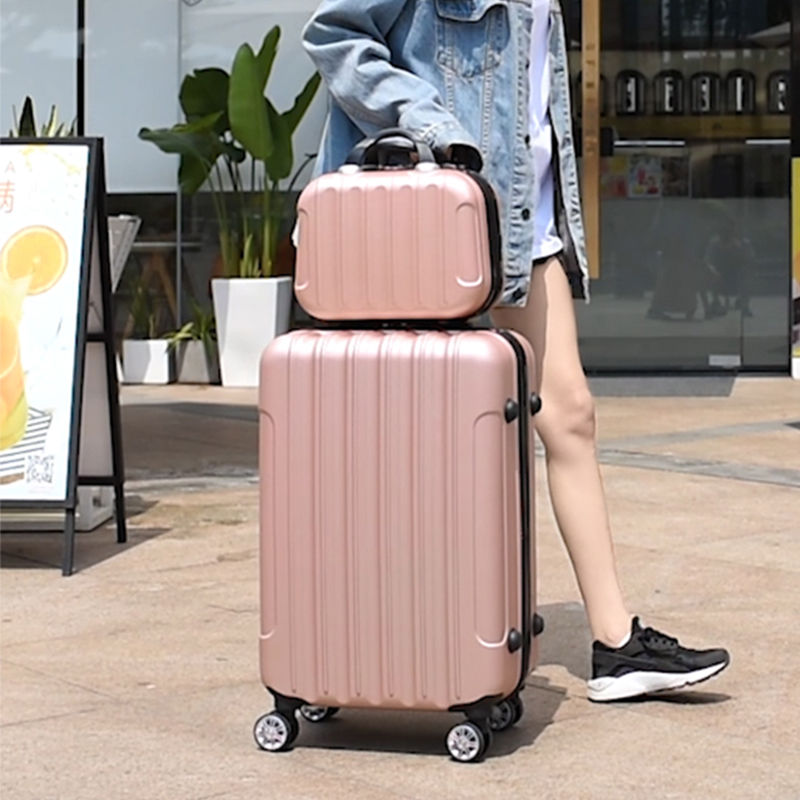box: (258, 328, 540, 709)
wheel: (254, 709, 300, 752), (444, 721, 490, 762)
